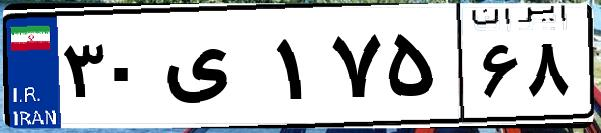0: (110, 28, 158, 98)
1: (270, 28, 330, 110)
3: (57, 26, 110, 100)
5: (385, 28, 445, 110)
6: (475, 38, 525, 113)
7: (330, 28, 385, 110)
8: (525, 38, 570, 115)
ی: (158, 20, 270, 120)
